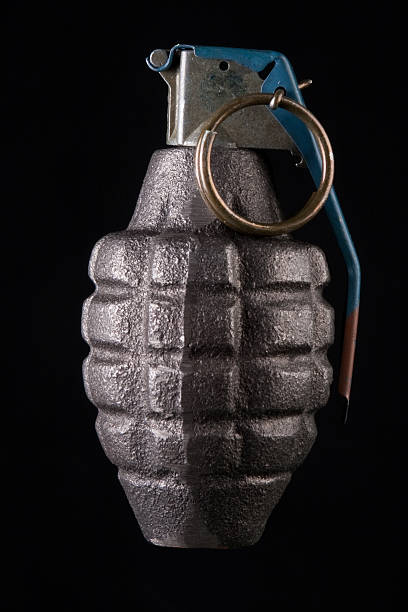e1: (76, 41, 360, 548)
